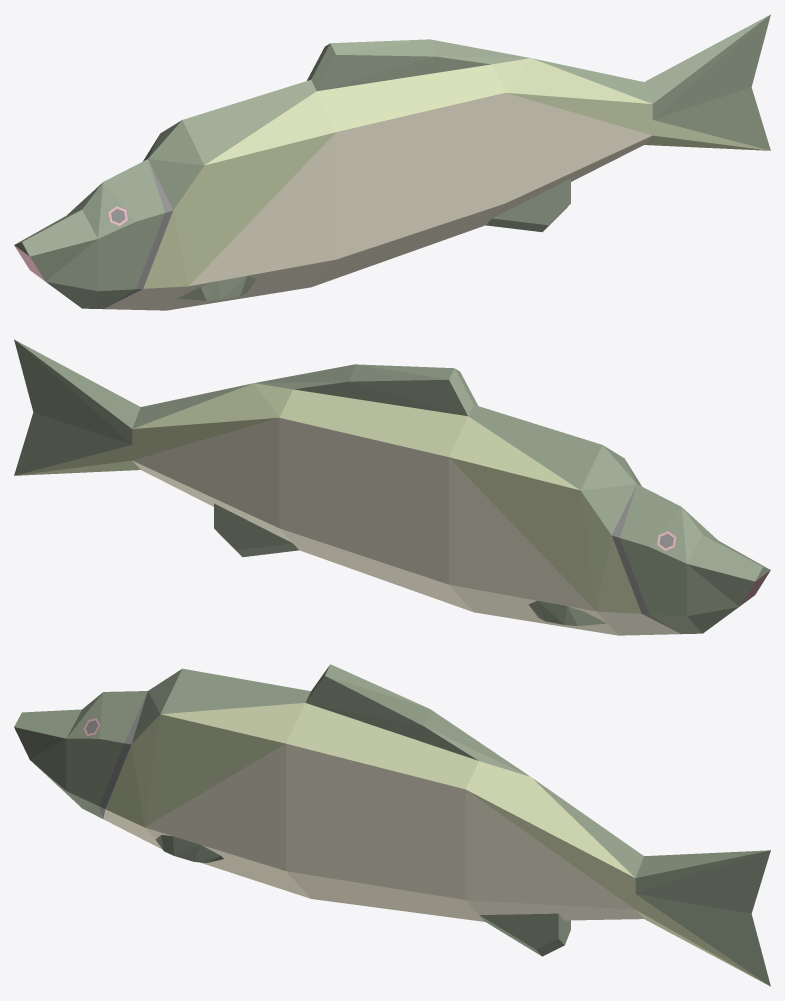
Rendered from Carp.fbx.
The picture shows the model from 3 angles, top to bottom: view 1: azimuth 30°, elevation 25°; view 2: azimuth 150°, elevation 25°; view 3: azimuth 330°, elevation 25°; orthographic projection.
Visible parts, largest first — view 1: Carp; view 2: Carp; view 3: Carp.
Part boxes in pixels (bbox=[...]): Carp: bbox=[14, 14, 770, 310]; Carp: bbox=[14, 339, 770, 635]; Carp: bbox=[14, 664, 770, 986].
Size of the model in its own units: 0.4724 by 0.1451 by 0.0552.
